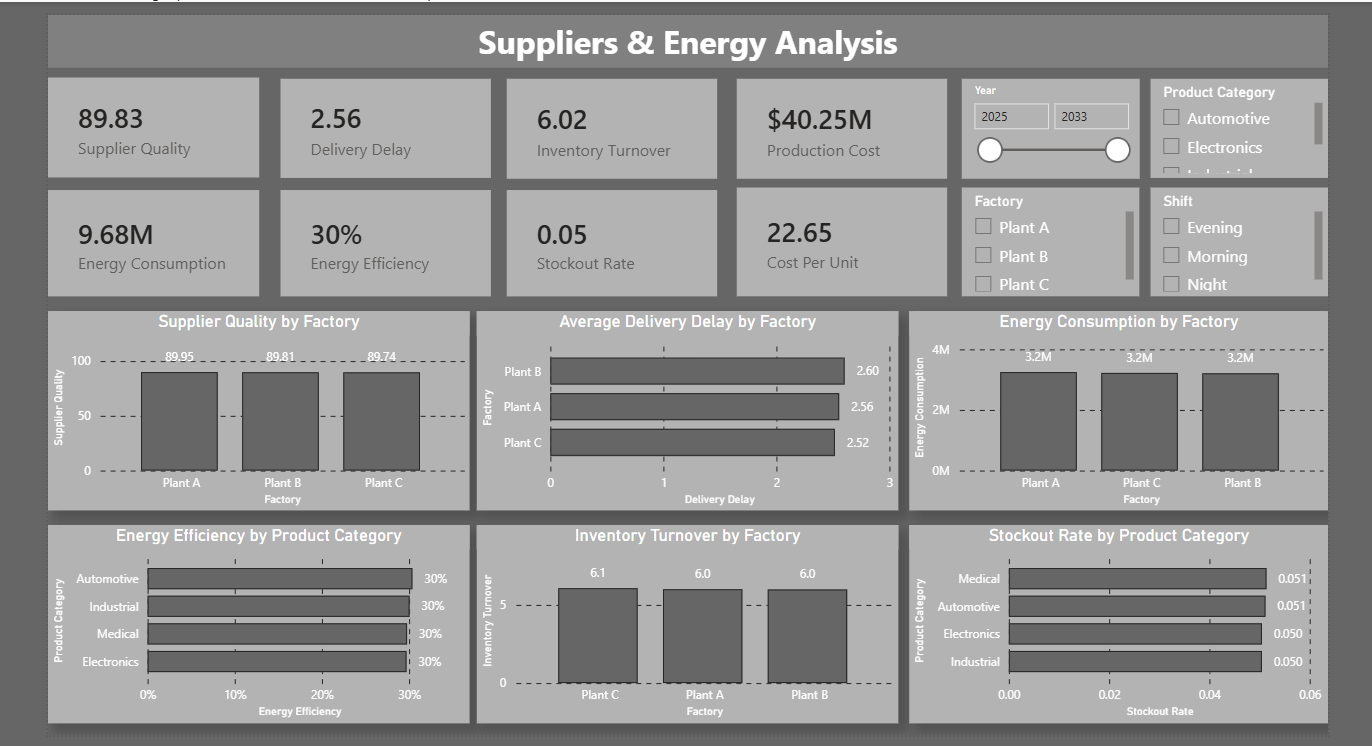

The dashboard page shown, as its layout file describes it:
{"tool":"powerbi","page":{"name":"Supplier & Energy Analysis","canvas":[1280,720],"ordinal":3},"visuals":[{"type":"cardVisual","fields":{"Data":["Measure_Table.Average Supplier Quality"]},"box":[0,63,210.8,100.3],"z":0},{"type":"cardVisual","fields":{"Data":["Measure_Table.Average Delivery Delay"]},"box":[232.3,63.6,210.3,99],"z":1000},{"type":"cardVisual","fields":{"Data":["Measure_Table.Total Energy Consumption"]},"box":[0,174.8,210.8,106.7],"z":2000},{"type":"cardVisual","fields":{"Data":["Measure_Table.Average Energy Efficiency"]},"box":[232.3,174.9,210.3,106.4],"z":3000},{"type":"cardVisual","fields":{"Data":["Measure_Table.Average Inventory Turnover"]},"box":[458.6,63.6,210.3,100.3],"z":4000},{"type":"cardVisual","fields":{"Data":["Measure_Table.Avergae Stockout Rate"]},"box":[458.6,174.9,210.3,106.4],"z":5000},{"type":"cardVisual","fields":{"Data":["Measure_Table.Total Production Cost"]},"box":[688.5,63.6,210.3,100.3],"z":6000},{"type":"cardVisual","fields":{"Data":["Measure_Table.Cost Per Unit"]},"box":[688.5,172.4,210.3,108.8],"z":7000},{"type":"clusteredColumnChart","title":"Supplier Quality by Factory","fields":{"Category":["Dim_Factory.Factory"],"Y":["Measure_Table.Average Supplier Quality"]},"box":[0,295.9,421.9,199.3],"z":8000},{"type":"clusteredBarChart","title":"Average Delivery Delay by Factory","fields":{"Category":["Dim_Factory.Factory"],"Y":["Measure_Table.Average Delivery Delay"]},"box":[429.2,295.9,421.9,199.3],"z":9000},{"type":"clusteredColumnChart","title":"Energy Consumption by Factory","fields":{"Y":["Measure_Table.Total Energy Consumption"],"Category":["Dim_Factory.Factory"]},"box":[860.9,295.9,419.4,199.3],"z":10000},{"type":"clusteredBarChart","title":"Energy Efficiency by Product Category","fields":{"Category":["Dim_Product.Product Category"],"Y":["Measure_Table.Average Energy Efficiency"]},"box":[0,509.9,421.9,198.1],"z":11000},{"type":"clusteredColumnChart","title":"Inventory Turnover by Factory","fields":{"Category":["Dim_Factory.Factory"],"Y":["Measure_Table.Average Inventory Turnover"]},"box":[429.2,509.9,421.9,198.1],"z":12000},{"type":"slicer","fields":{"Values":["Dim_Date.Year"]},"box":[913.5,63.6,177.3,99],"z":13000},{"type":"slicer","fields":{"Values":["Dim_Factory.Factory"]},"box":[913.5,172.4,177.3,108.8],"z":14000},{"type":"slicer","fields":{"Values":["Dim_Product.Product Category"]},"box":[1103,63.6,177.3,99],"z":15000},{"type":"slicer","fields":{"Values":["Dim_Shift.Shift"]},"box":[1103,172.4,177.3,108.8],"z":16000},{"type":"clusteredBarChart","title":"Stockout Rate by Product Category","fields":{"Category":["Dim_Product.Product Category"],"Y":["Measure_Table.Avergae Stockout Rate"]},"box":[860.9,509.9,419.4,198.1],"z":17000},{"type":"textbox","box":[0,0,1280.3,52.7],"z":18000}]}

Visuals, with their boxes in screenshot pixels (x1, y1, x2, y2):
cardVisual - Measure_Table.Average Supplier Quality: crop(57, 80, 265, 179)
cardVisual - Measure_Table.Average Delivery Delay: crop(286, 81, 494, 178)
cardVisual - Measure_Table.Total Energy Consumption: crop(57, 190, 265, 296)
cardVisual - Measure_Table.Average Energy Efficiency: crop(286, 190, 494, 295)
cardVisual - Measure_Table.Average Inventory Turnover: crop(510, 81, 717, 180)
cardVisual - Measure_Table.Avergae Stockout Rate: crop(510, 190, 717, 295)
cardVisual - Measure_Table.Total Production Cost: crop(736, 81, 944, 180)
cardVisual - Measure_Table.Cost Per Unit: crop(736, 188, 944, 295)
"Supplier Quality by Factory" clusteredColumnChart: crop(57, 310, 473, 506)
"Average Delivery Delay by Factory" clusteredBarChart: crop(481, 310, 897, 506)
"Energy Consumption by Factory" clusteredColumnChart: crop(906, 310, 1320, 506)
"Energy Efficiency by Product Category" clusteredBarChart: crop(57, 521, 473, 716)
"Inventory Turnover by Factory" clusteredColumnChart: crop(481, 521, 897, 716)
slicer - Dim_Date.Year: crop(958, 81, 1133, 178)
slicer - Dim_Factory.Factory: crop(958, 188, 1133, 295)
slicer - Dim_Product.Product Category: crop(1145, 81, 1320, 178)
slicer - Dim_Shift.Shift: crop(1145, 188, 1320, 295)
"Stockout Rate by Product Category" clusteredBarChart: crop(906, 521, 1320, 716)
textbox: crop(57, 18, 1320, 70)
